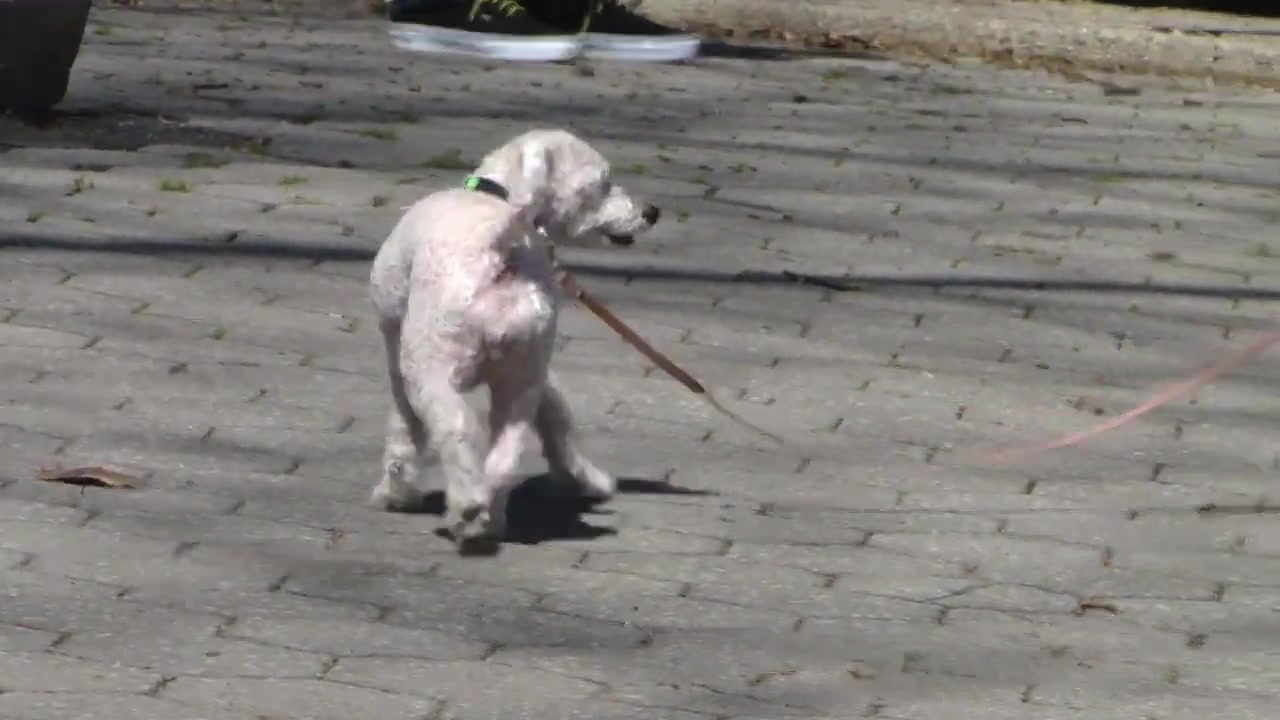dog: (364, 123, 661, 558)
